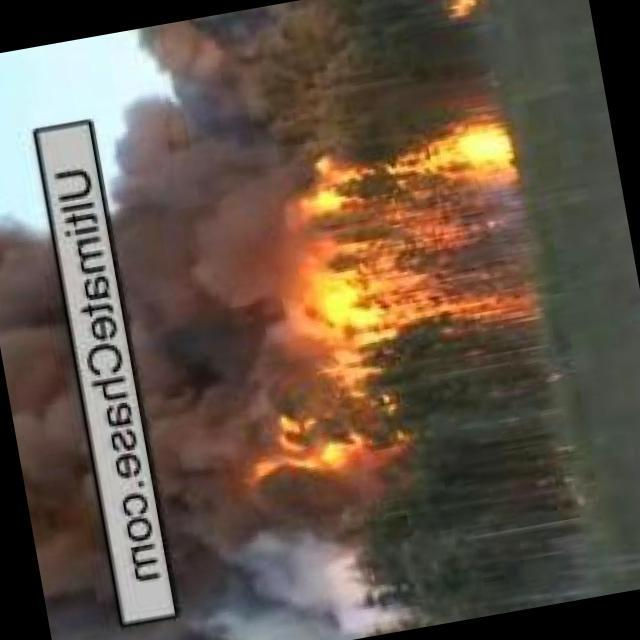Fire: (278, 115, 549, 356), (230, 409, 401, 494), (443, 1, 487, 20)
